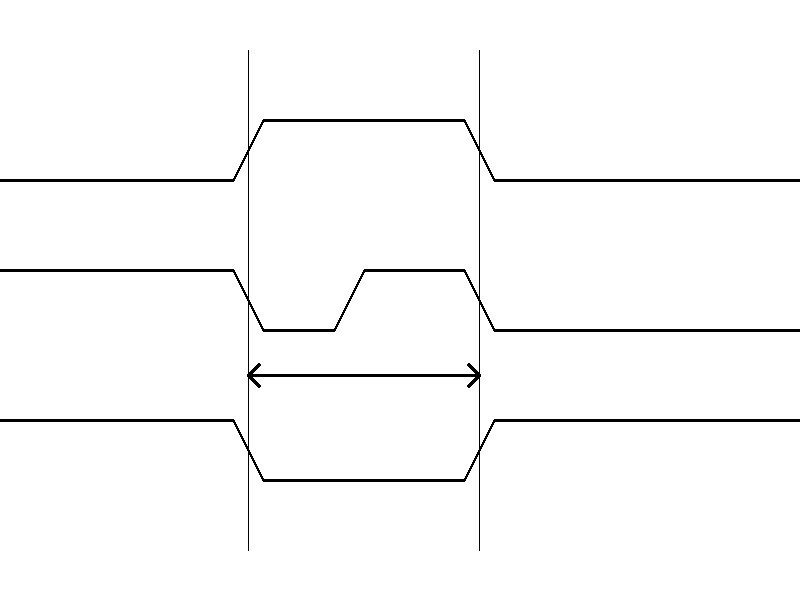double_arrow: (248, 360, 479, 390)
